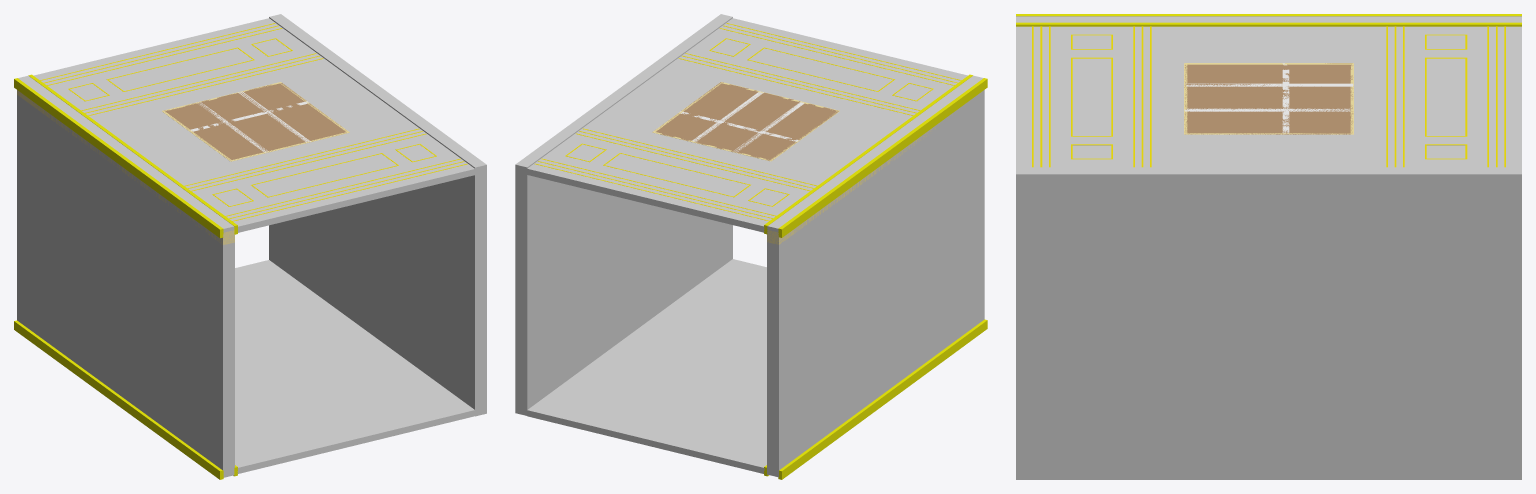
File: phongdt.fbx
3 renders of one model, left to right at view 1: azimuth 30°, elevation 25°; view 2: azimuth 150°, elevation 25°; view 3: azimuth 270°, elevation 25°, orthographic. The views are drawn at different scales.
Parts seen in each view (by area): view 1: imagetostl_mesh49, imagetostl_mesh3, imagetostl_mesh50, imagetostl_mesh54, imagetostl_mesh11, imagetostl_mesh1, imagetostl_mesh52, imagetostl_mesh2, imagetostl_mesh48; view 2: imagetostl_mesh49, imagetostl_mesh3, imagetostl_mesh50, imagetostl_mesh54, imagetostl_mesh11, imagetostl_mesh1, imagetostl_mesh52, imagetostl_mesh2, imagetostl_mesh48; view 3: imagetostl_mesh50, imagetostl_mesh3, imagetostl_mesh11, imagetostl_mesh49, imagetostl_mesh2, imagetostl_mesh1, imagetostl_mesh8, imagetostl_mesh9.
Boxes of the visible parts, bbox=[...] form: imagetostl_mesh49: bbox=[17, 75, 234, 477]; imagetostl_mesh3: bbox=[34, 18, 474, 232]; imagetostl_mesh50: bbox=[269, 14, 486, 416]; imagetostl_mesh54: bbox=[235, 260, 474, 473]; imagetostl_mesh11: bbox=[164, 83, 346, 160]; imagetostl_mesh1: bbox=[14, 78, 223, 238]; imagetostl_mesh52: bbox=[14, 320, 223, 479]; imagetostl_mesh2: bbox=[28, 74, 237, 234]; imagetostl_mesh48: bbox=[17, 90, 234, 244]; imagetostl_mesh49: bbox=[767, 75, 984, 477]; imagetostl_mesh3: bbox=[527, 18, 967, 232]; imagetostl_mesh50: bbox=[515, 14, 732, 415]; imagetostl_mesh54: bbox=[527, 259, 766, 473]; imagetostl_mesh11: bbox=[656, 82, 838, 160]; imagetostl_mesh1: bbox=[778, 78, 987, 237]; imagetostl_mesh52: bbox=[778, 319, 987, 479]; imagetostl_mesh2: bbox=[764, 74, 972, 234]; imagetostl_mesh48: bbox=[767, 114, 952, 244]; imagetostl_mesh50: bbox=[1016, 167, 1521, 479]; imagetostl_mesh3: bbox=[1016, 26, 1521, 167]; imagetostl_mesh11: bbox=[1184, 63, 1353, 134]; imagetostl_mesh49: bbox=[1016, 16, 1521, 22]; imagetostl_mesh2: bbox=[1016, 22, 1521, 26]; imagetostl_mesh1: bbox=[1016, 14, 1521, 16]; imagetostl_mesh8: bbox=[1185, 83, 1353, 86]; imagetostl_mesh9: bbox=[1184, 108, 1350, 111].
Bounding box in the file's own units: 22450 × 20164 × 30001.
